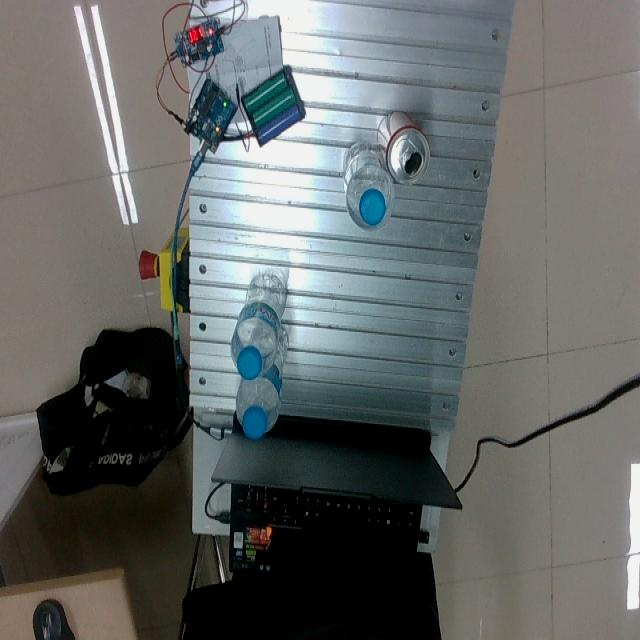coca: (377, 112, 430, 184)
lavie: (229, 271, 287, 378), (235, 324, 286, 440), (343, 143, 394, 232)
